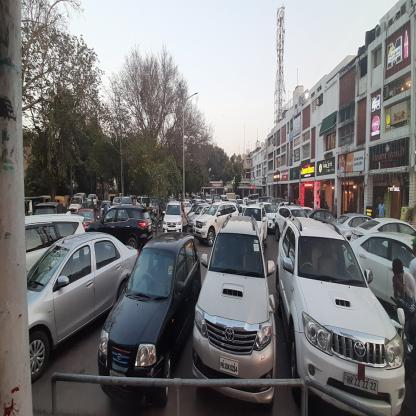car: (276, 216, 405, 415), (26, 232, 138, 385), (100, 236, 202, 404), (193, 215, 276, 410), (348, 228, 416, 326), (84, 207, 151, 248), (195, 203, 240, 242), (162, 202, 184, 236)
